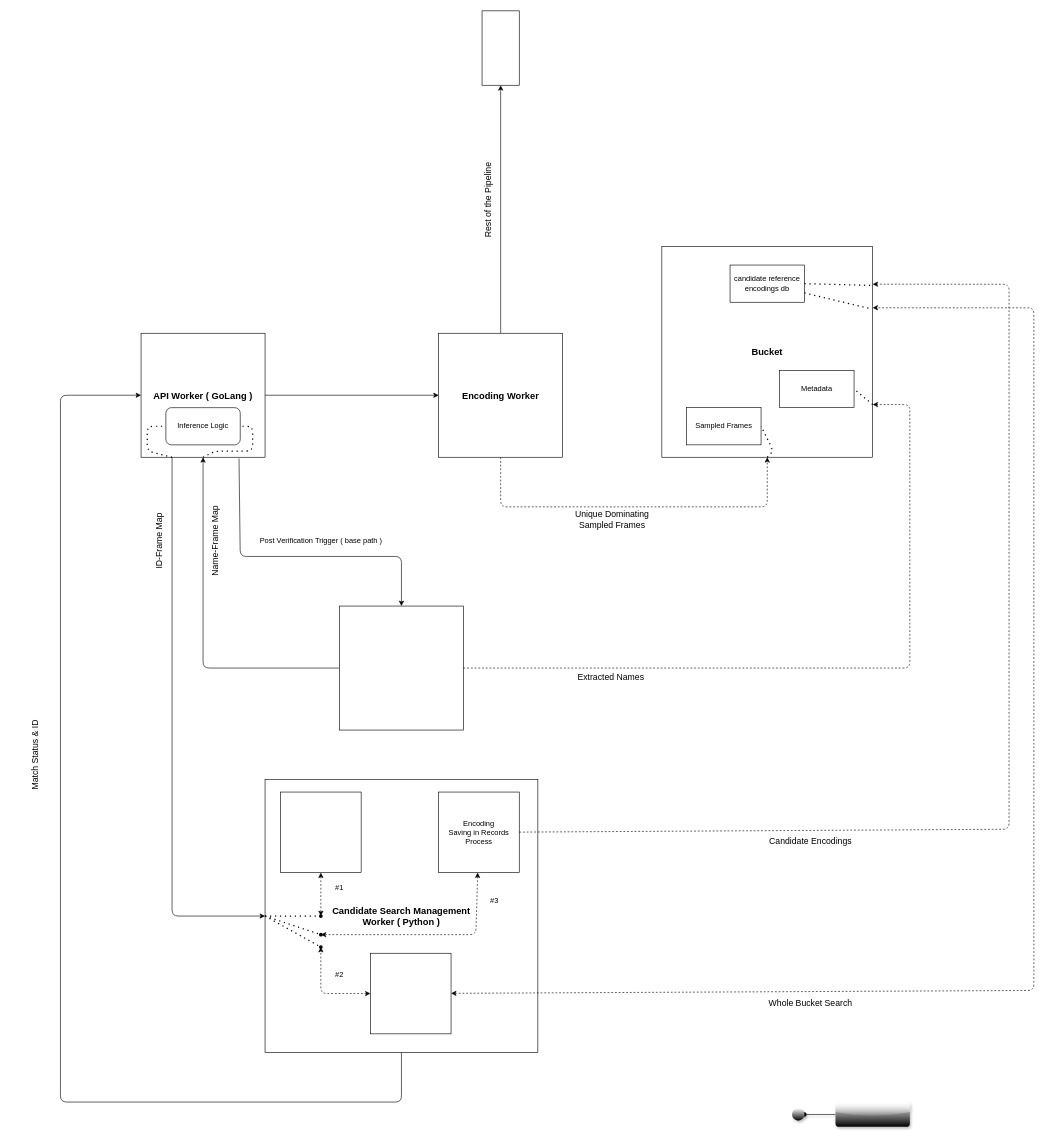
Some shapes in this 1050 by 1142 pixel diagram are drawn without their labels. The centre of each missing label's shape, as x and y in pixels:
ankit.kumar05: (873,1115)
Image Crosscheck with Candidate Records Process: (410,993)
Image Encoding Process: (320,832)
OCR Worker ( pubsub / gRPC ) ( GoLang / Python ): (401,667)
Upstream: (500,47)
